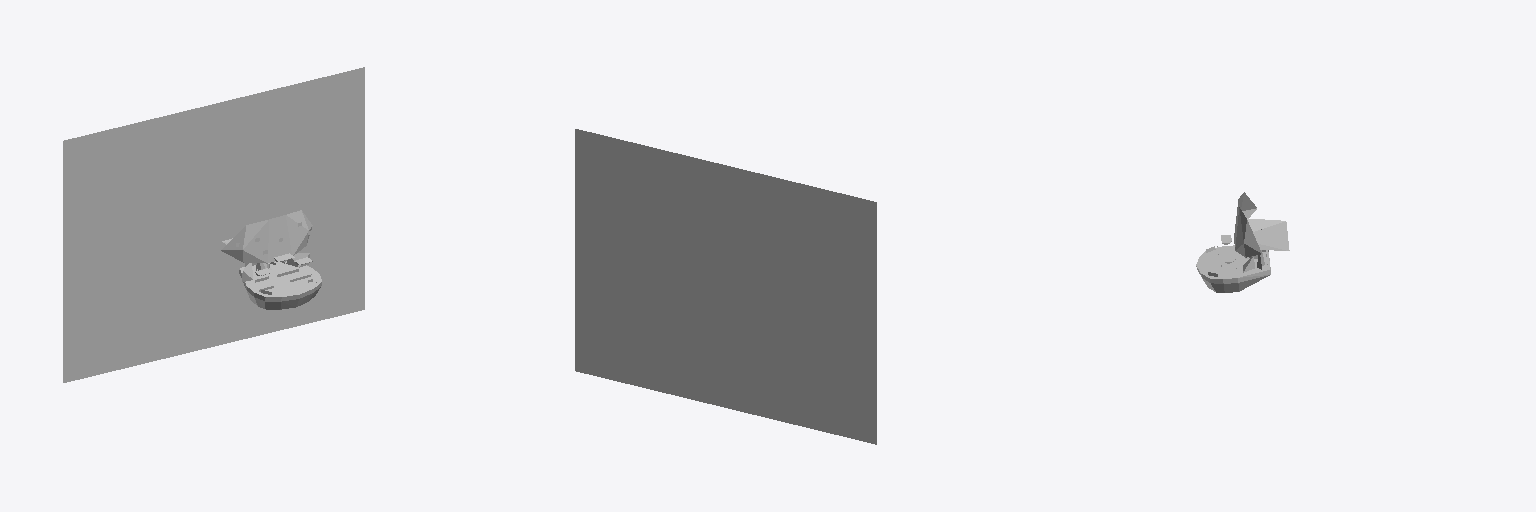
File: dreamland.obj
3 renders of one model, left to right at view 1: azimuth 30°, elevation 25°; view 2: azimuth 150°, elevation 25°; view 3: azimuth 270°, elevation 25°, orthographic.
Visible parts, largest first — view 1: Dream_Land; view 2: Dream_Land; view 3: Dream_Land.
Boxes of the visible parts, x1,y1,x2,y2 form: Dream_Land: [63, 67, 364, 382]; Dream_Land: [575, 129, 876, 444]; Dream_Land: [1196, 192, 1289, 292].
Bounding box in the file's own units: 18.26 × 14 × 8.77.